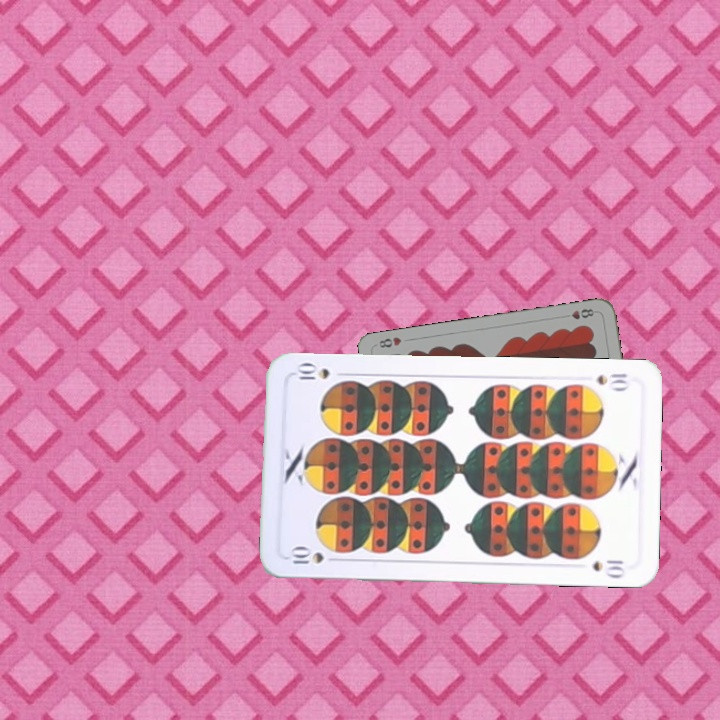H8: (559, 305, 597, 322)
S10: (284, 545, 343, 566), (592, 369, 631, 393)
